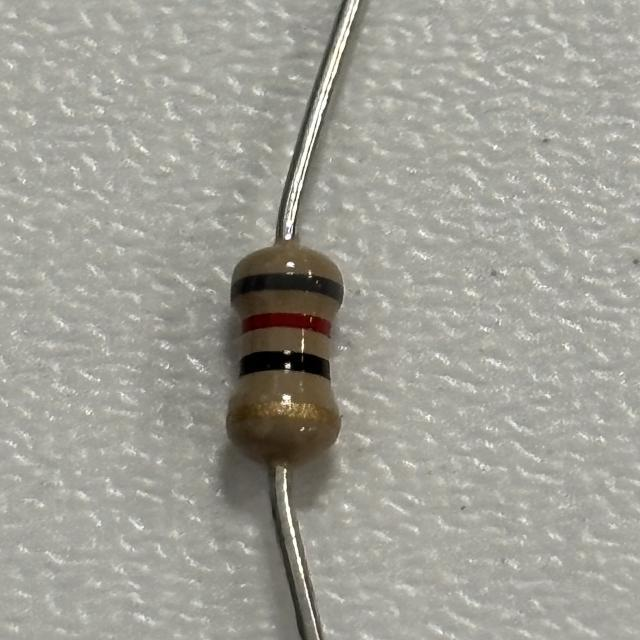resistor: (224, 253, 347, 452)
